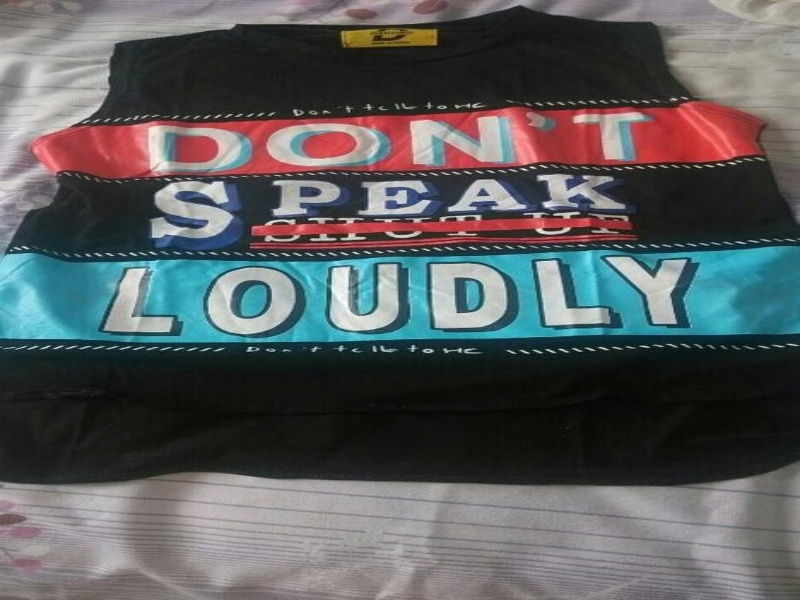vest: (0, 10, 797, 495)
